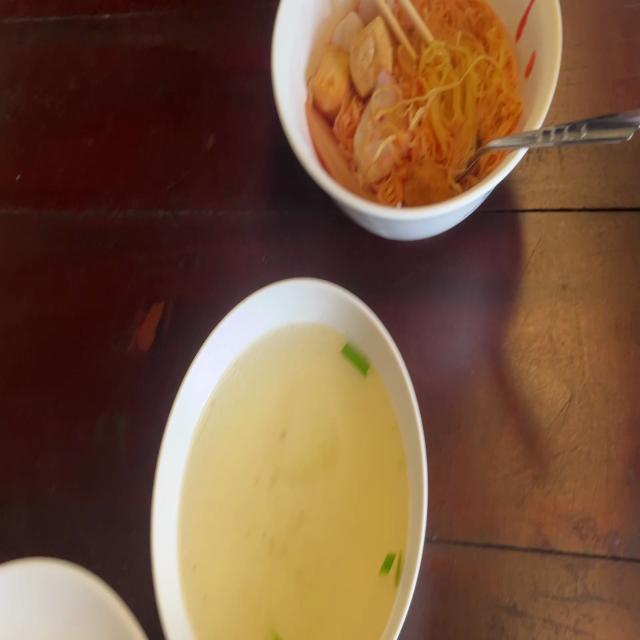crunchy_squid: (300, 99, 374, 200)
egg_noodles: (403, 13, 504, 178)
fish_ball: (332, 5, 364, 50), (358, 0, 397, 21)
fried_fish_balls: (358, 82, 400, 179)
fried_tofu: (359, 23, 391, 82)
noodle: (305, 0, 519, 202)
tofu: (319, 43, 351, 104)
